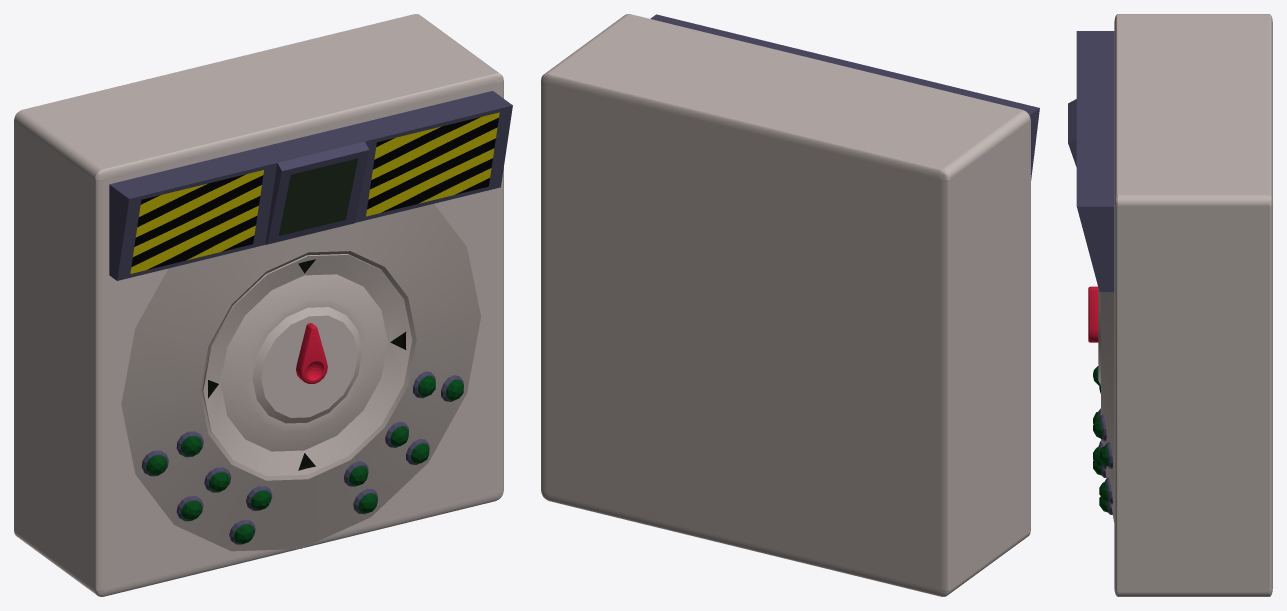
File: needy-knob.glb
3 renders of one model, left to right at view 1: azimuth 30°, elevation 25°; view 2: azimuth 150°, elevation 25°; view 3: azimuth 270°, elevation 25°, orthographic. The views are drawn at different scales.
Visible parts, largest first — view 1: NeedyKnobModule, KnobShell.Outer, TimerScreen.Base, KnobShell.Inner, TimerScreen.Num, Dial; view 2: NeedyKnobModule, TimerScreen.Base; view 3: NeedyKnobModule, TimerScreen.Base, KnobShell.Outer, Dial.
Part boxes in pixels (box(x1,y1,x2,y2)): NeedyKnobModule: box(14, 14, 503, 596); KnobShell.Outer: box(121, 204, 480, 551); TimerScreen.Base: box(109, 91, 512, 280); KnobShell.Inner: box(202, 254, 412, 476); TimerScreen.Num: box(278, 158, 357, 235); Dial: box(296, 323, 327, 383); NeedyKnobModule: box(541, 14, 1030, 596); TimerScreen.Base: box(650, 14, 1039, 180); NeedyKnobModule: box(1114, 14, 1272, 596); TimerScreen.Base: box(1068, 31, 1114, 291); KnobShell.Outer: box(1101, 292, 1114, 522); Dial: box(1088, 286, 1098, 342).
Size of the model in its own units: 0.1761 by 0.1761 by 0.0814.
Materials: 8 (1 with a texture image).
